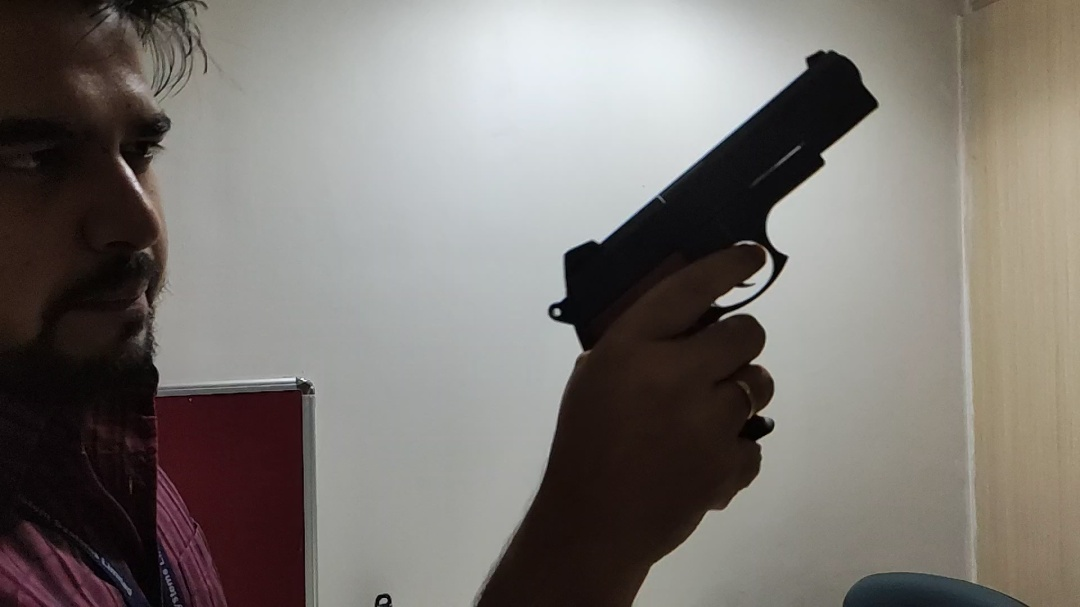gun: (541, 46, 881, 324)
